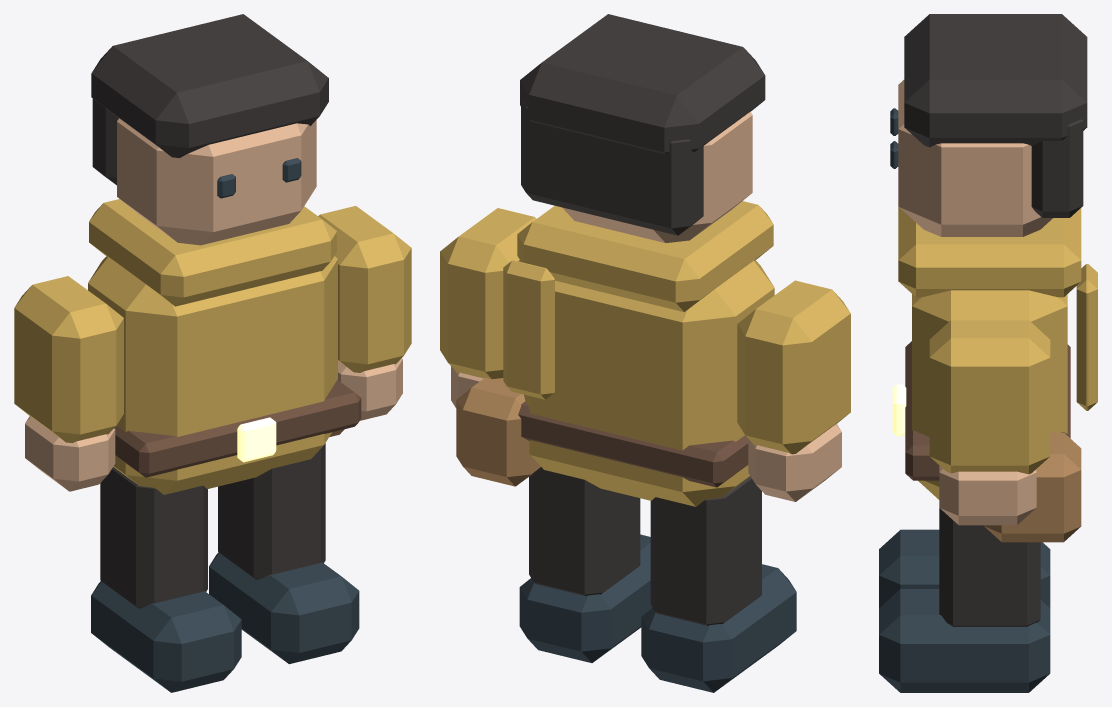
Rendered from character-npc.glb.
3 views of the same model, side by side, from view 1: azimuth 30°, elevation 25°; view 2: azimuth 150°, elevation 25°; view 3: azimuth 270°, elevation 25° (orthographic). The views are drawn at different scales.
Parts seen in each view (by area): view 1: tunic.002, hair.002, head.002, sleeve.004, scarf.002, leg.004, boot.004, sleeve.005, boot.005, leg.005, belt.002, hand.004 (+3 smaller); view 2: tunic.002, hair.002, sleeve.004, scarf.002, hair-back.002, leg.004, leg.005, sleeve.005, boot.004, boot.005, belt.002, scarf-tail.002 (+3 smaller); view 3: hair.002, sleeve.005, boot.005, head.002, scarf.002, leg.005, tunic.002, satchel.002, hand.005, boot.004, hair-back.002, scarf-tail.002 (+2 smaller).
Part boxes in pixels (x1,y1,x2,y2): tunic.002: (88,256,337,494); hair.002: (91,14,328,158); head.002: (117,118,316,245); sleeve.004: (14,276,123,443); scarf.002: (89,199,336,306); leg.004: (100,467,207,608); boot.004: (91,581,241,692); sleeve.005: (318,206,411,372); boot.005: (209,552,359,664); leg.005: (218,443,325,579); belt.002: (114,380,361,477); hand.004: (25,416,115,491); tunic.002: (518,260,774,506); hair.002: (520,14,765,154); sleeve.004: (737,280,850,454); scarf.002: (517,201,773,311); hair-back.002: (521,99,703,235); leg.004: (650,476,761,625); leg.005: (529,467,640,595); sleeve.005: (440,208,536,379); boot.004: (641,564,796,692); boot.005: (519,534,652,662); belt.002: (518,401,748,487); scarf-tail.002: (503,260,554,399); hair.002: (904,14,1087,147); sleeve.005: (929,320,1050,474); boot.005: (879,589,1050,692); head.002: (898,80,1052,236); scarf.002: (898,207,1081,297); leg.005: (939,508,1040,626); tunic.002: (912,290,1067,499); satchel.002: (984,432,1081,542); hand.005: (939,465,1036,525); boot.004: (879,529,1050,607); hair-back.002: (1031,119,1083,217); scarf-tail.002: (1076,264,1097,410).
Bounding box in the file's own units: 1.1 × 1.71 × 0.5625.
